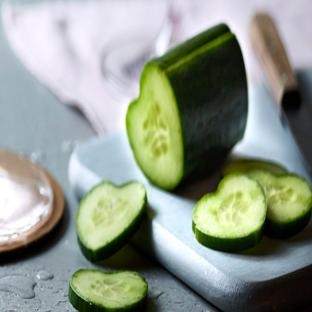Cucumber: (127, 25, 247, 189), (193, 174, 266, 251), (76, 182, 146, 261), (248, 170, 311, 238), (69, 269, 147, 311), (222, 159, 287, 176)
